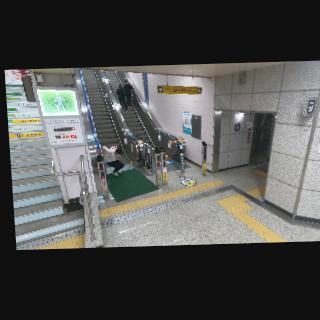anomaly: (96, 142, 128, 180)
normal: (122, 78, 135, 111), (116, 82, 128, 113)
